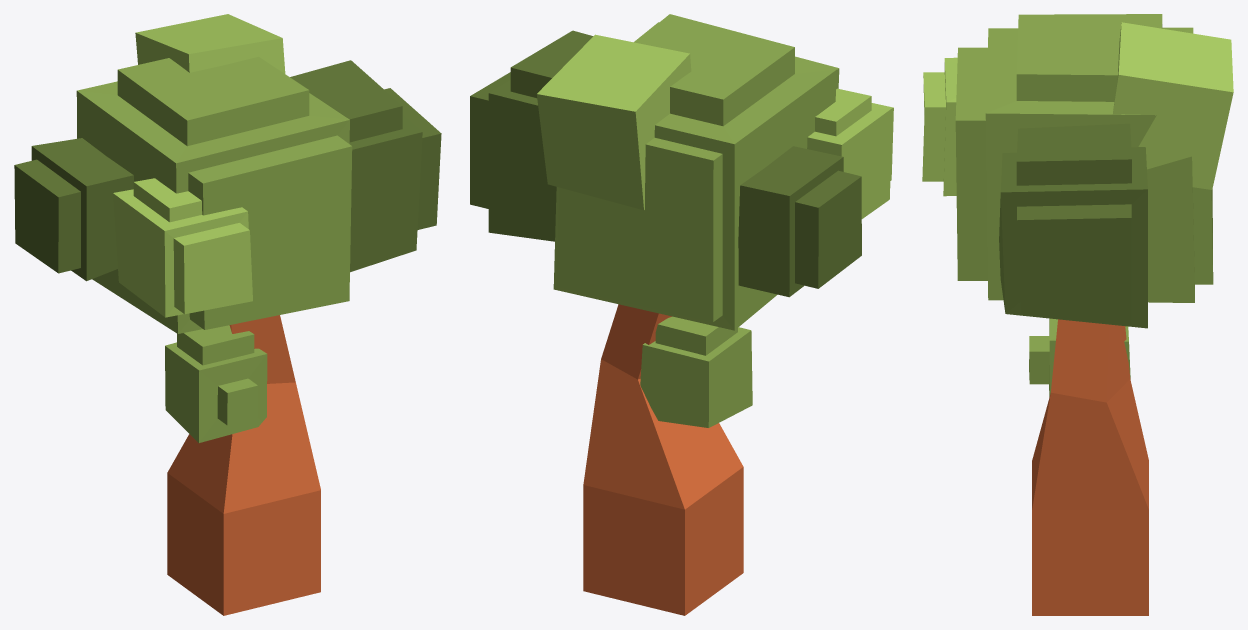
File: tree3.fbx
The picture shows the model from 3 angles, left to right: view 1: azimuth 30°, elevation 25°; view 2: azimuth 150°, elevation 25°; view 3: azimuth 270°, elevation 25°; orthographic projection. The views are drawn at different scales.
Parts seen in each view (by area): view 1: pCube25, pCube23, pCube28, pCube29, pCube26, pCube24, pCube27; view 2: pCube25, pCube23, pCube27, pCube26, pCube28, pCube24, pCube29; view 3: pCube25, pCube23, pCube28, pCube27, pCube29, pCube24.
Boxes of the visible parts, <box> form: pCube25: <box>76,56,352,333</box>; pCube23: <box>167,315,320,615</box>; pCube28: <box>290,60,441,272</box>; pCube29: <box>113,178,252,317</box>; pCube26: <box>14,138,133,281</box>; pCube24: <box>165,325,267,442</box>; pCube27: <box>135,14,285,73</box>; pCube25: <box>553,14,839,330</box>; pCube23: <box>583,304,743,615</box>; pCube27: <box>536,34,691,210</box>; pCube26: <box>738,146,861,297</box>; pCube28: <box>470,30,593,241</box>; pCube24: <box>640,316,752,427</box>; pCube29: <box>807,88,893,218</box>; pCube25: <box>955,14,1213,302</box>; pCube23: <box>1032,319,1148,615</box>; pCube28: <box>999,123,1147,328</box>; pCube27: <box>1113,22,1233,189</box>; pCube29: <box>922,57,957,196</box>; pCube24: <box>1029,318,1130,396</box>.
Bounding box in the file's own units: 219 × 311 × 160.
